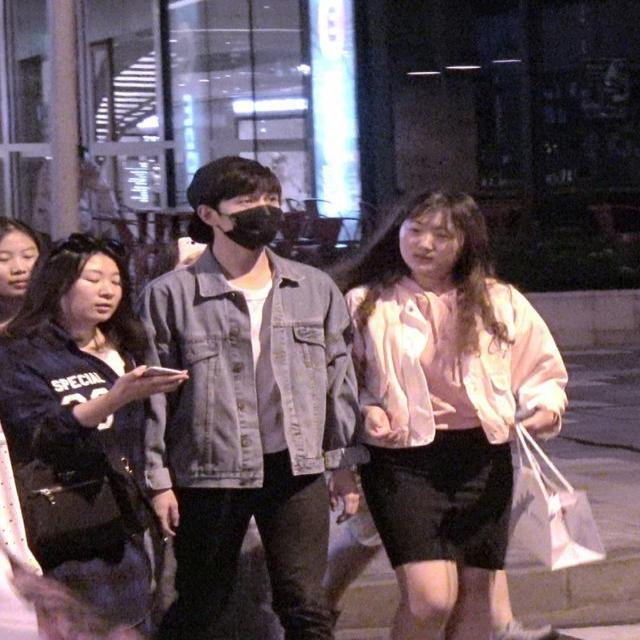mask: (218, 183, 278, 251)
nomask: (399, 205, 458, 274), (68, 254, 120, 322), (1, 234, 36, 295)
